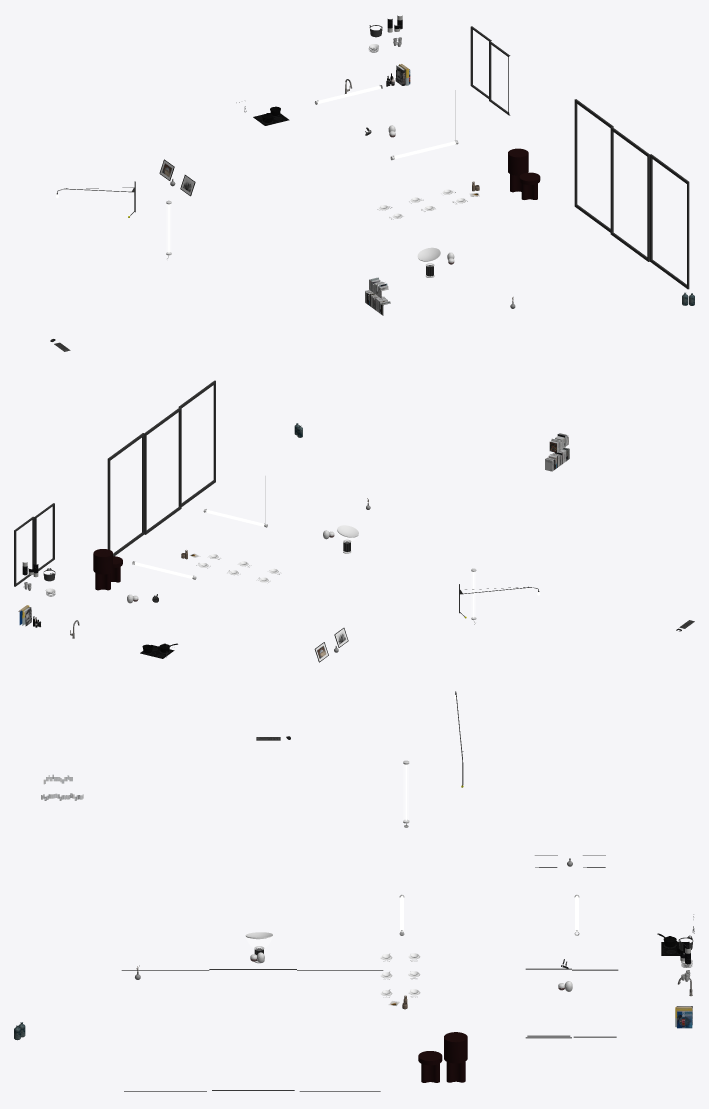
The model's file is NoBakedLiving_0206_V8_HARDDRACO.glb.
3 renders of one model, top to bottom at view 1: azimuth 30°, elevation 25°; view 2: azimuth 150°, elevation 25°; view 3: azimuth 270°, elevation 25°, orthographic. The views are drawn at different scales.
Visible parts, largest first — view 1: lampe-Glass_grey; view 2: lampe-Glass_grey; view 3: lampe-Glass_grey.
Part boxes in pixels (<box>): lampe-Glass_grey: <box>50,15,694,351</box>; lampe-Glass_grey: <box>14,380,694,662</box>; lampe-Glass_grey: <box>14,691,694,1091</box>.
Size of the model in its own units: 1402 by 323 by 1250.
Materials: 54 (27 with a texture image).
